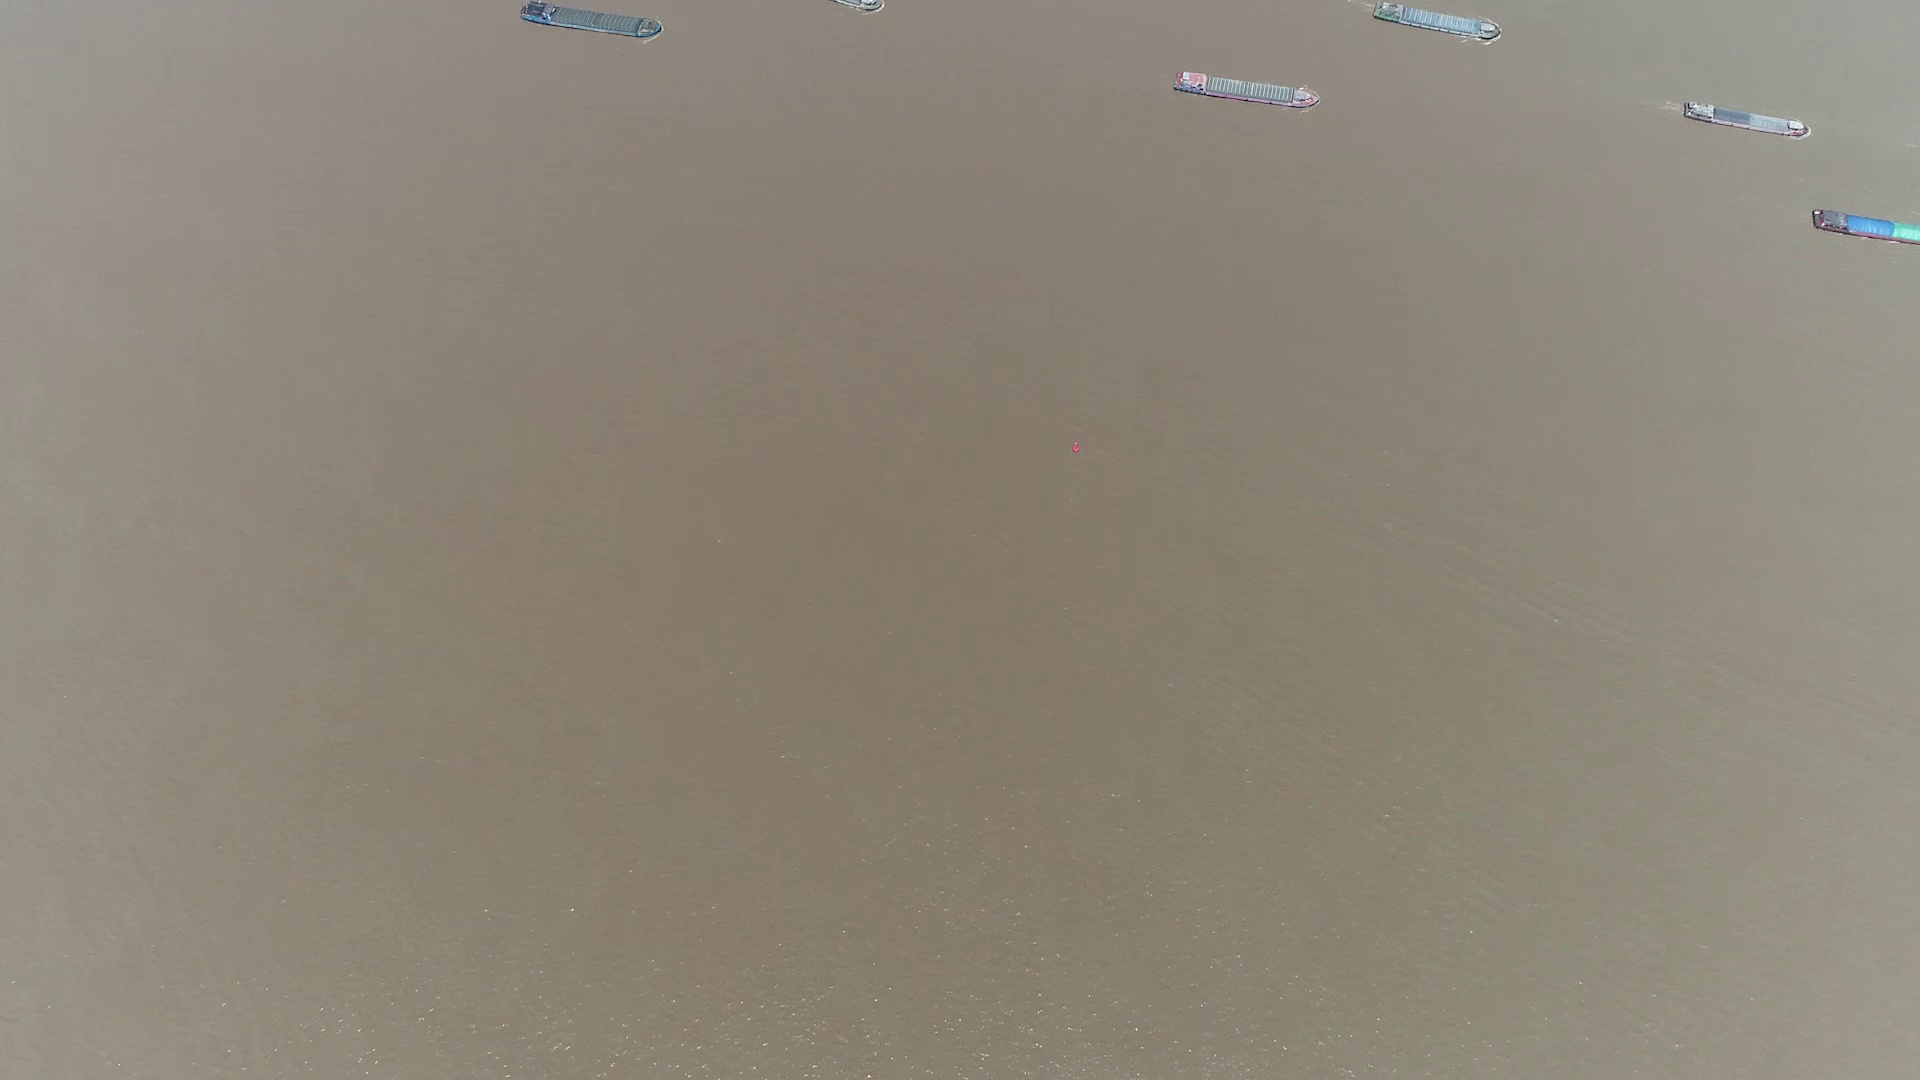ship: (520, 0, 665, 40), (1174, 71, 1317, 109), (1371, 3, 1503, 44), (1683, 99, 1809, 138), (1812, 207, 1920, 244)
